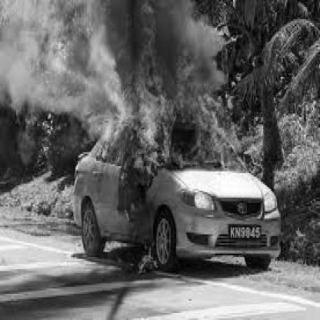Fire: (122, 7, 236, 171), (134, 245, 160, 273)
Smoke: (1, 33, 60, 107), (172, 14, 215, 52)
